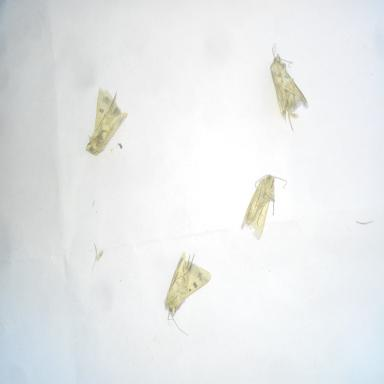abw: (154, 246, 212, 339), (266, 39, 314, 136), (81, 82, 132, 160), (236, 169, 289, 244)
